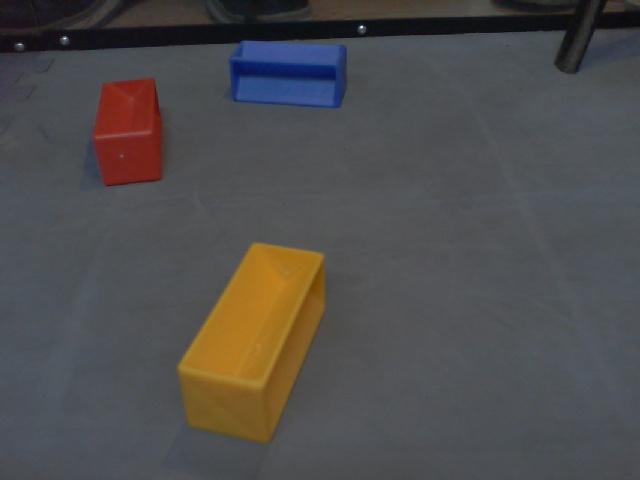BlueSample: (226, 39, 348, 112)
RedSample: (92, 78, 165, 185)
YellowSample: (177, 239, 328, 449)
